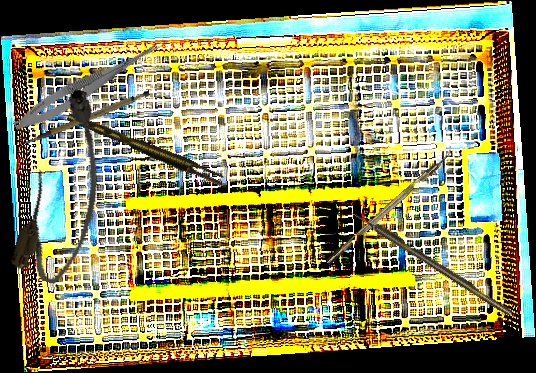Cannula: (8, 85, 125, 289)
Chopper: (319, 142, 458, 266)
Hook Surgical: (348, 206, 515, 319)
Micro Scissor: (10, 29, 169, 139)
Scalpel Handle: (19, 88, 155, 145)
Tissue Forceps: (66, 105, 226, 191)
